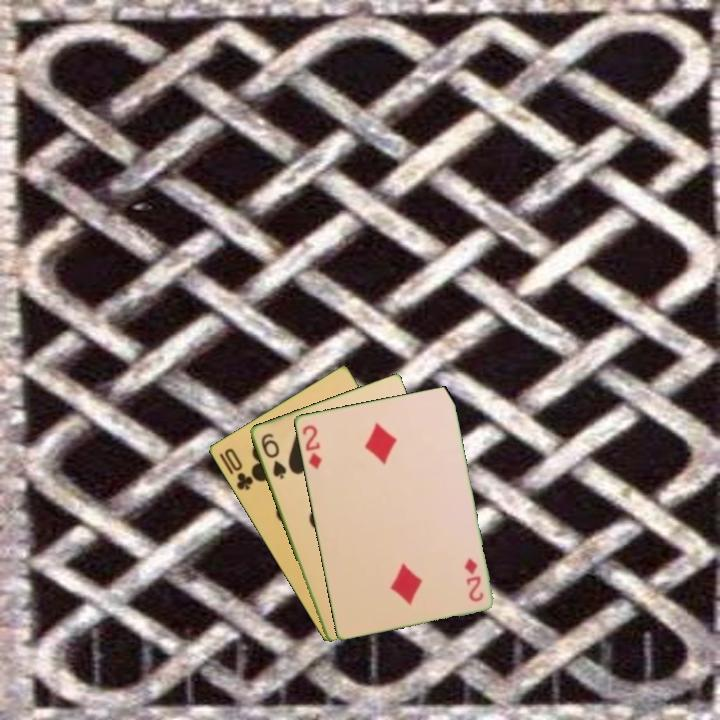10c: (215, 444, 256, 493)
2d: (298, 421, 324, 472), (460, 554, 486, 605)
6s: (257, 429, 289, 482)
